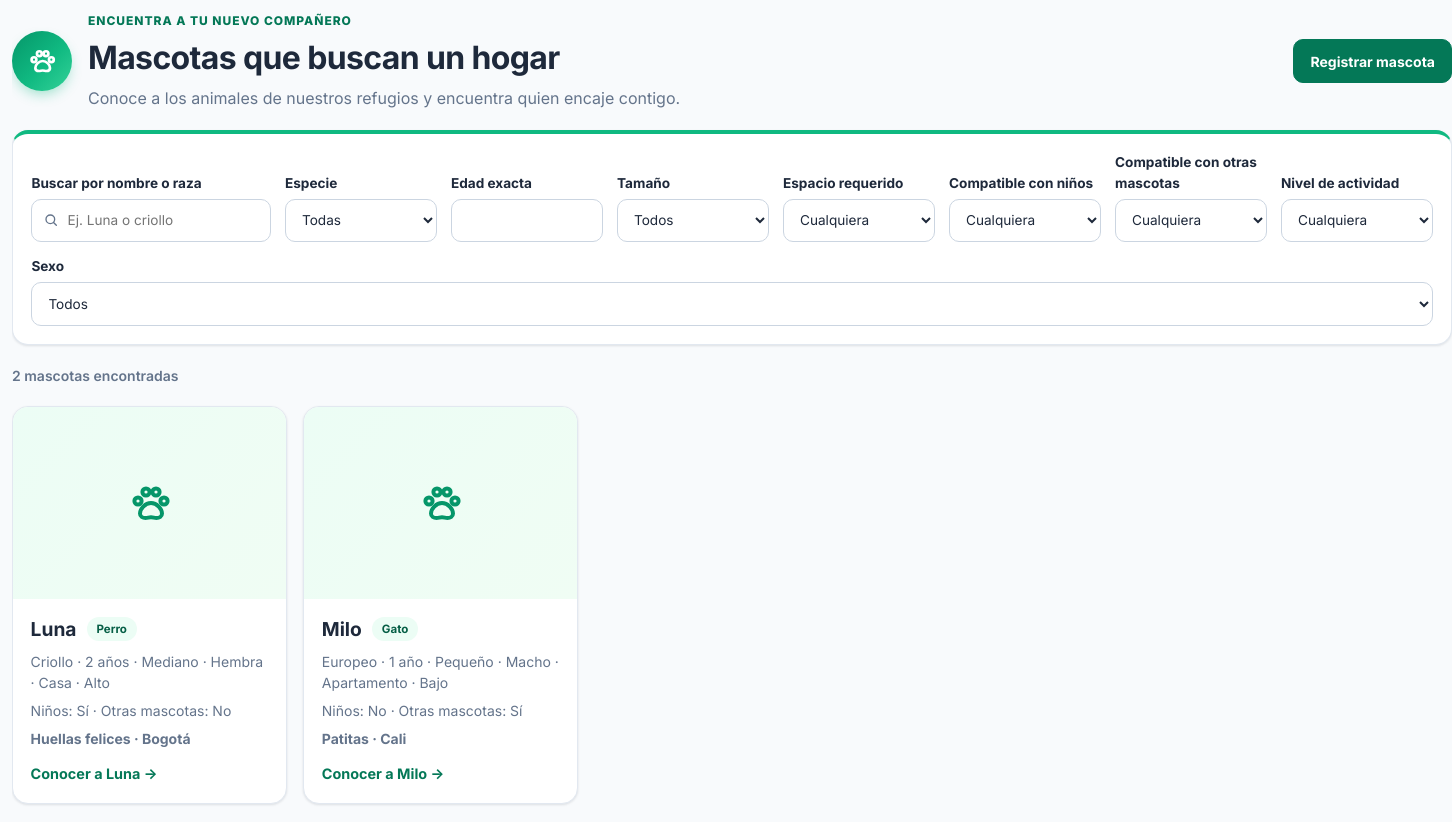
Test: PetsPage › combines exact age, space, compatibility, and activity filters
Expected: the heading "Luna" is shown, [31,615,76,644]
Expected: the dropdown labelled "Compatible con niños" shows "Cualquiera", [949,199,1101,242]
Type "1" into the number field labelled "Edad exacta" at (527,220), box [451,199,603,242]
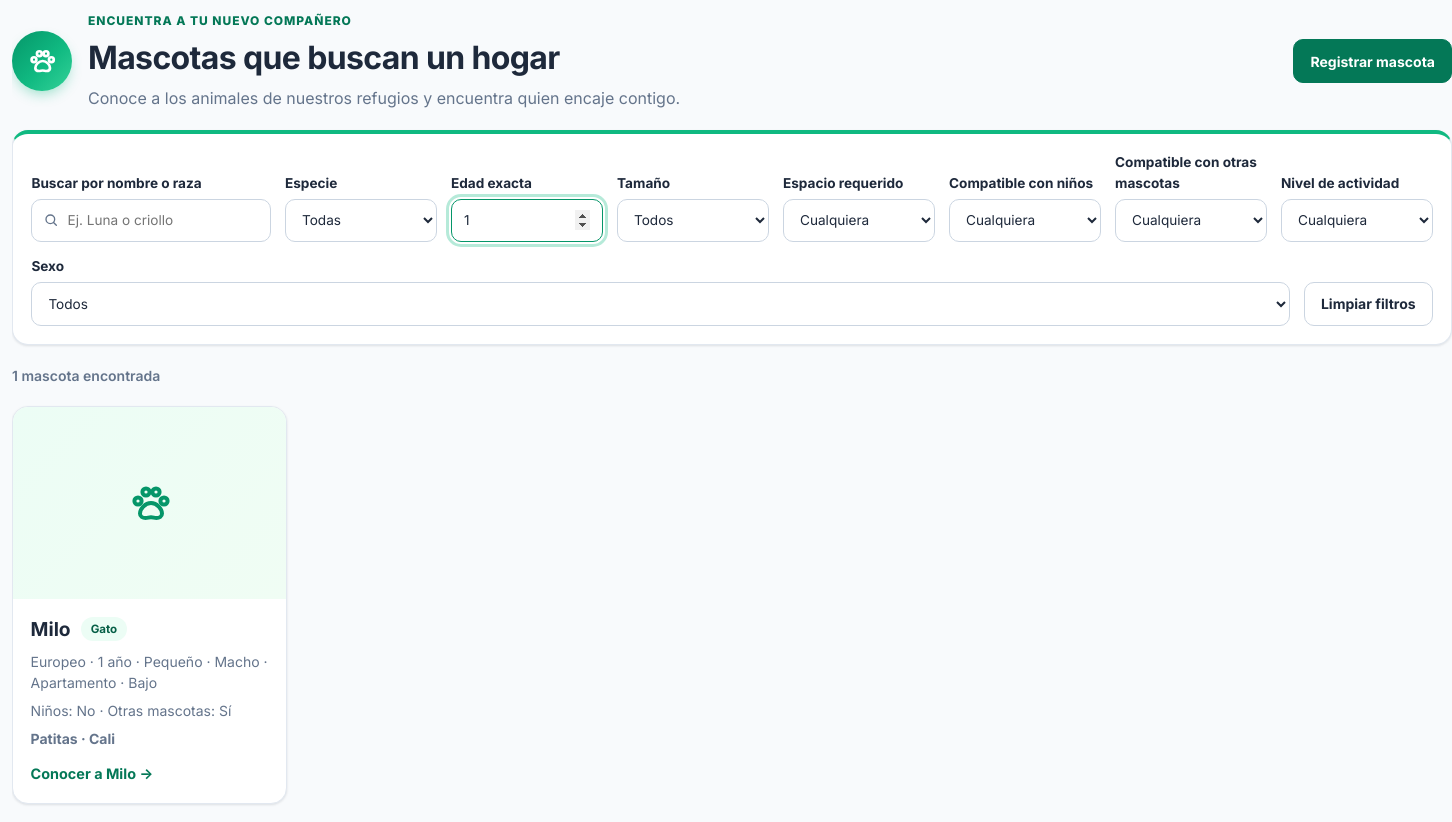
Select "Apartamento" in the dropdown labelled "Espacio requerido" at (859,220), box [783,199,935,242]
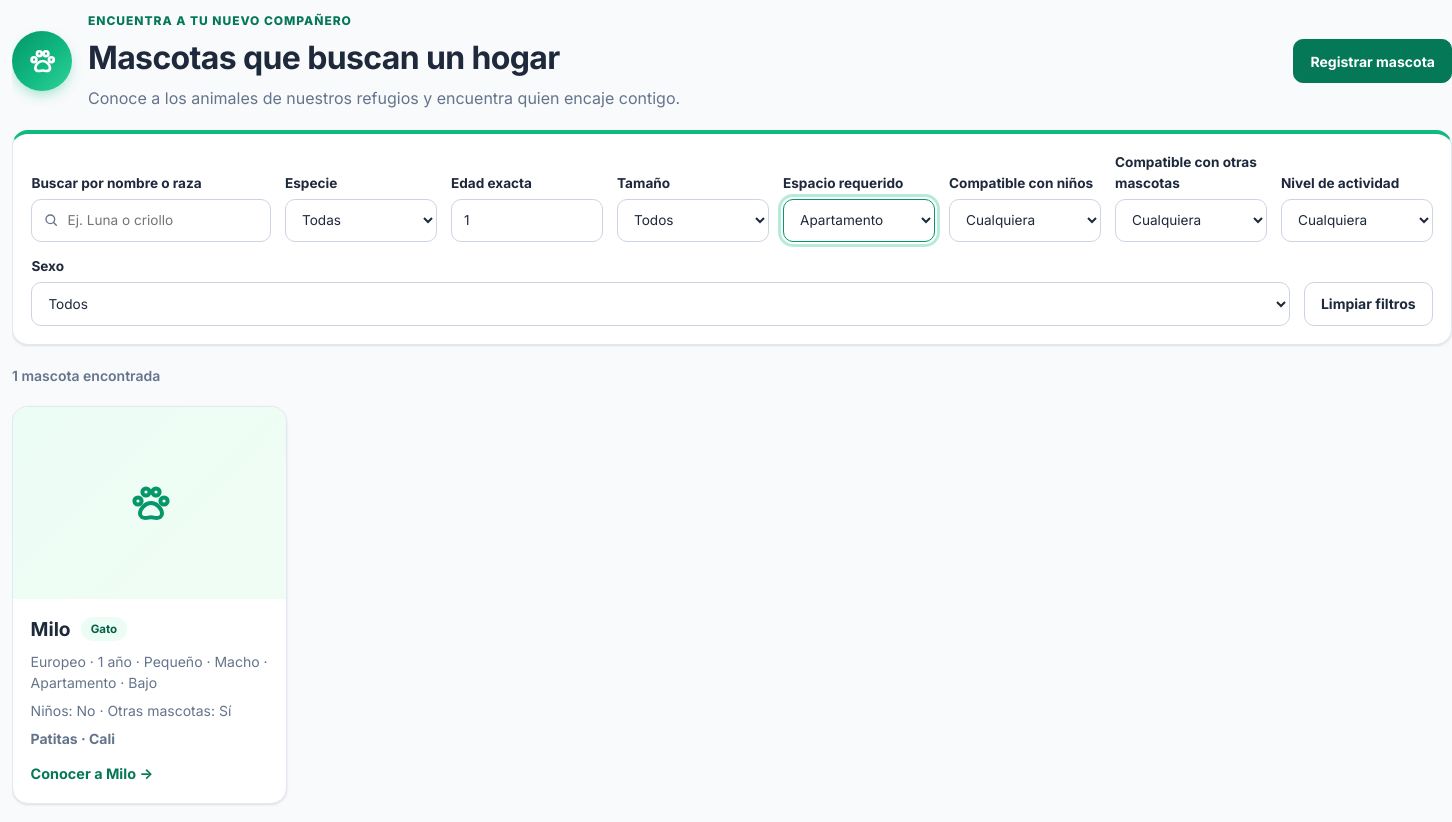
Select "No" in the dropdown labelled "Compatible con niños" at (1025,220), box [949,199,1101,242]
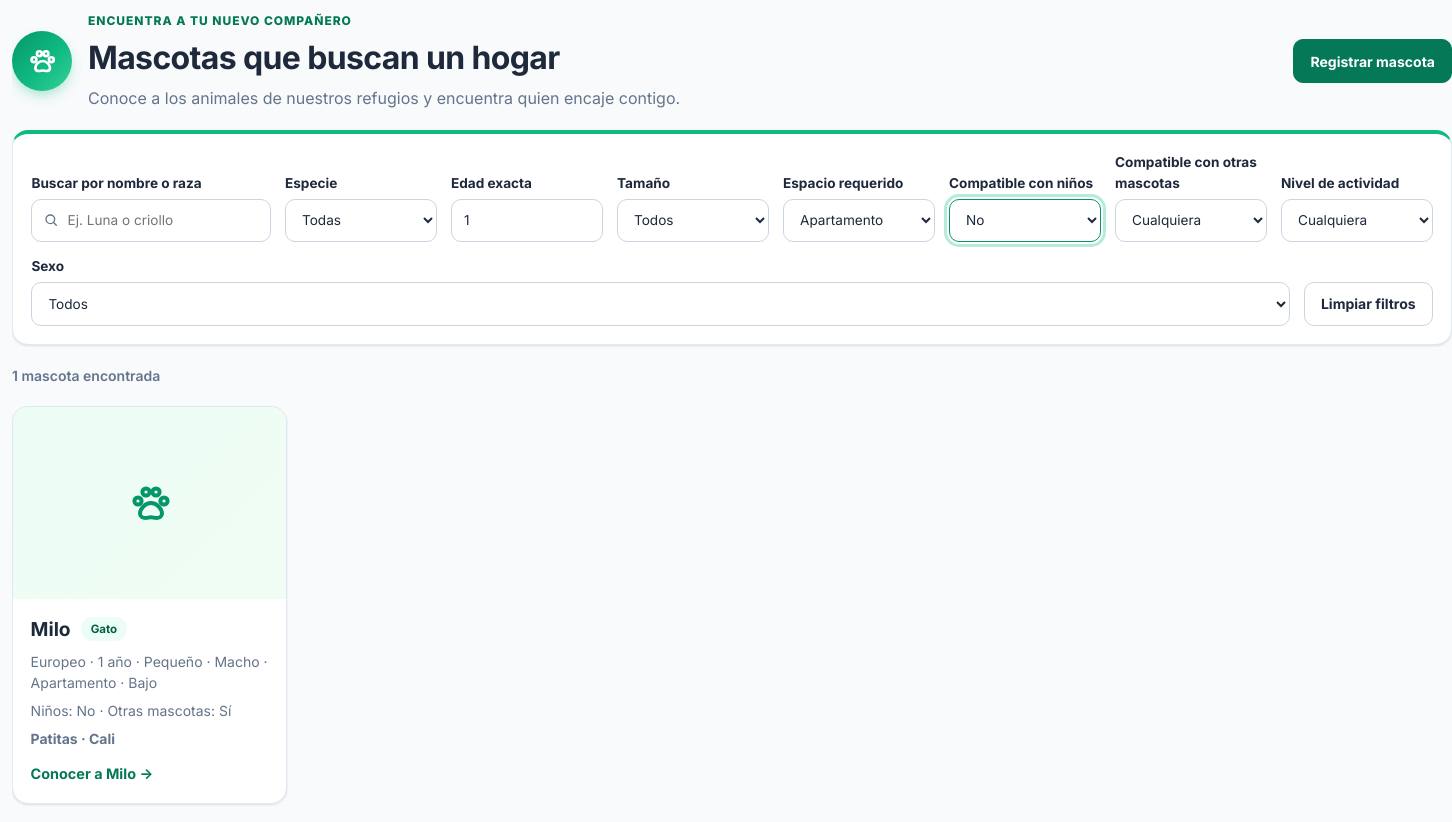
Select "Sí" in the dropdown labelled "Compatible con otras mascotas" at (1191,220), box [1115,199,1267,242]
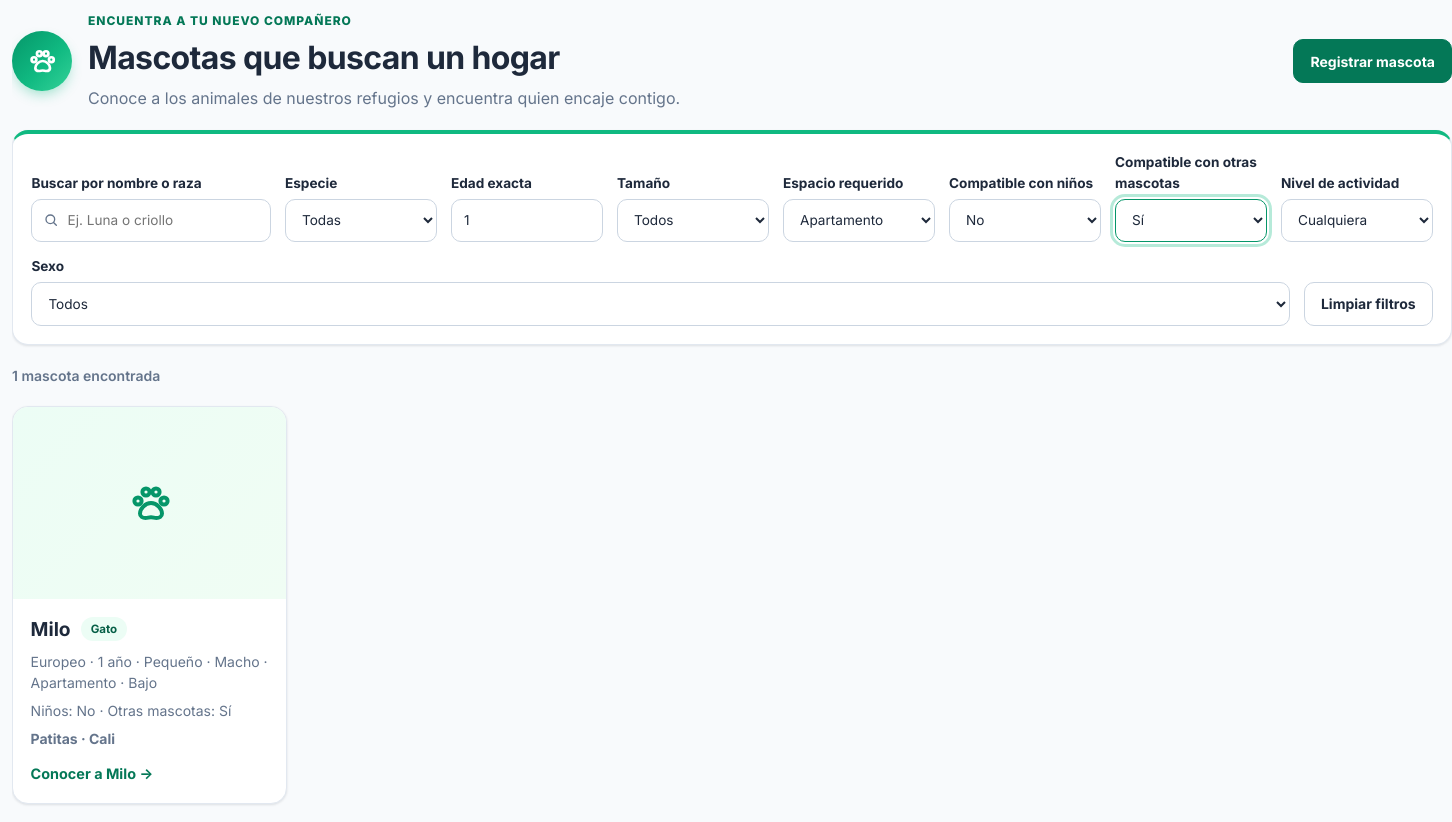
Select "Bajo" in the dropdown labelled "Nivel de actividad" at (1357,220), box [1281,199,1433,242]
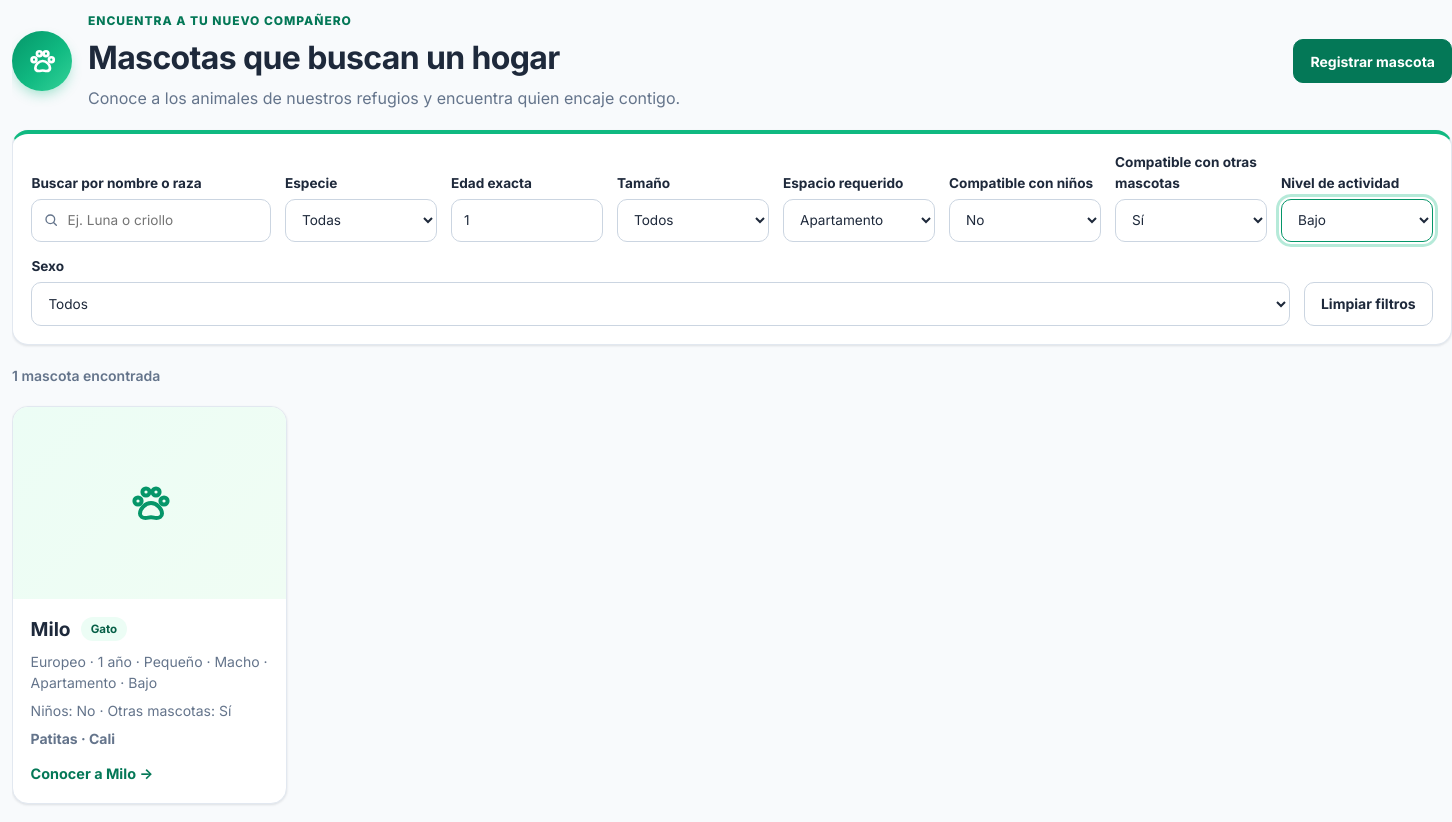
Expected: the heading "Milo" is shown, [31,615,71,644]
Replace the text in the number field labelled "Edad exacta" with "2" at (527,220), box [451,199,603,242]
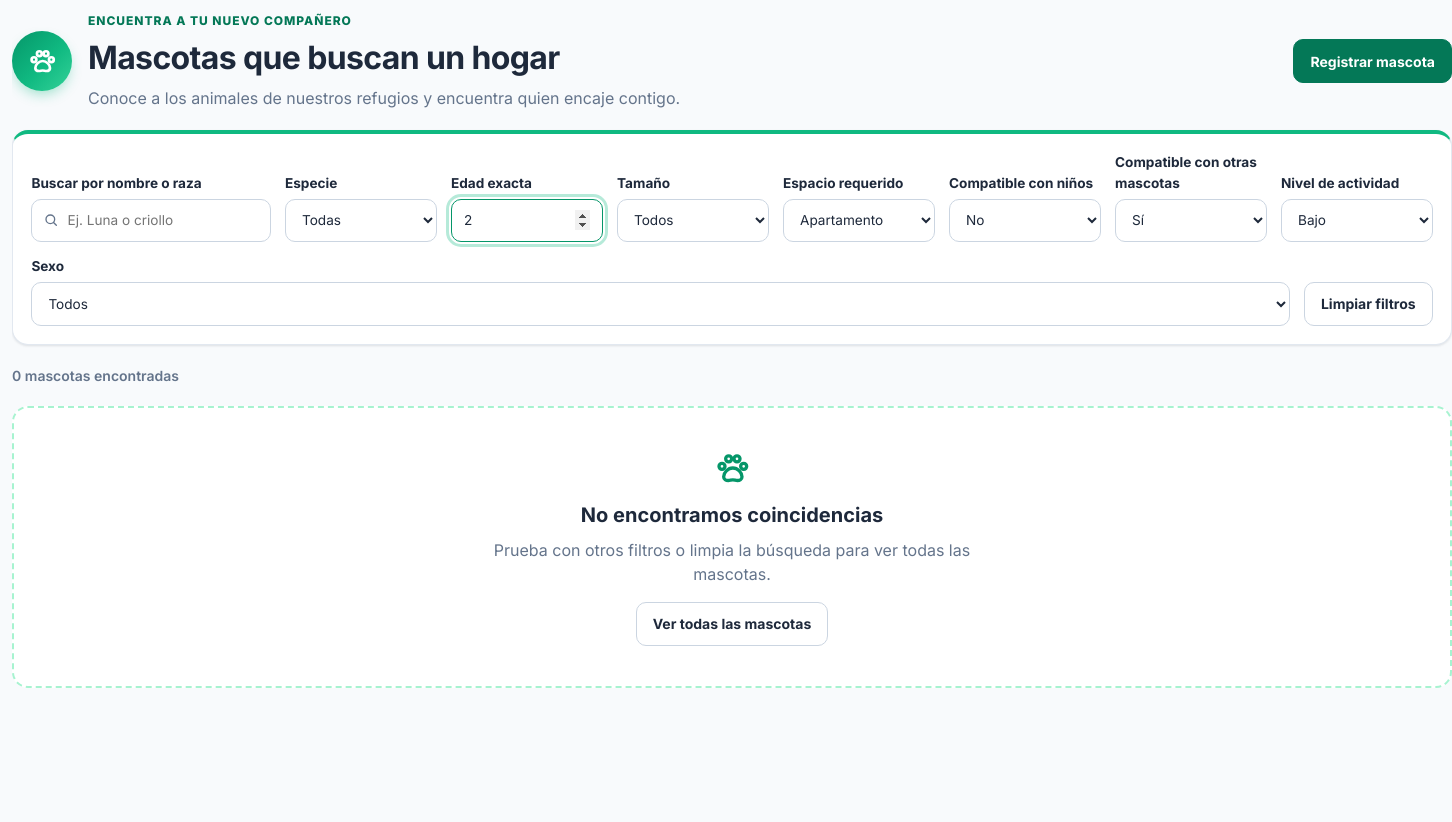
Expected: the heading "No encontramos coincidencias" is shown, [581,500,883,530]
